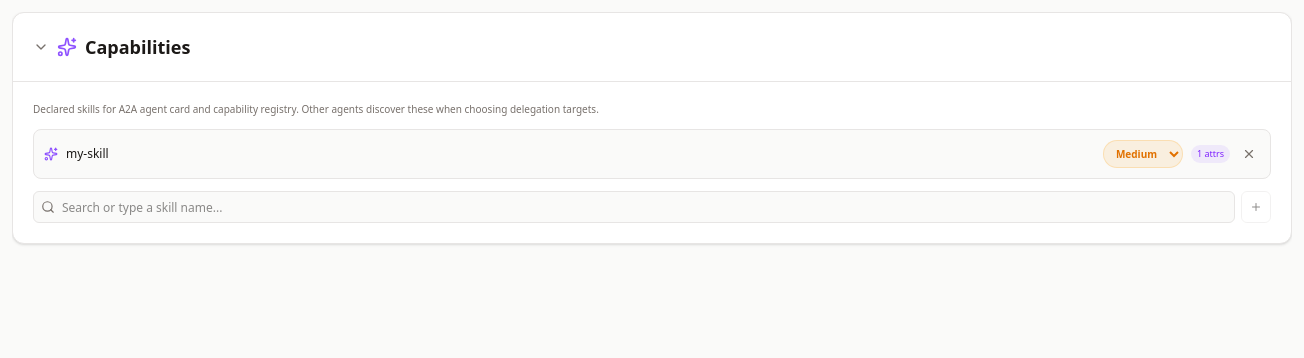
CapabilitiesSection — Editor › expands attributes editor when capability icon is clicked
Click the Sparkles icon button (toggle attributes)
Click the button titled "Toggle attributes".
click(51, 154)  # box x1=44 y1=147 x2=58 y2=161
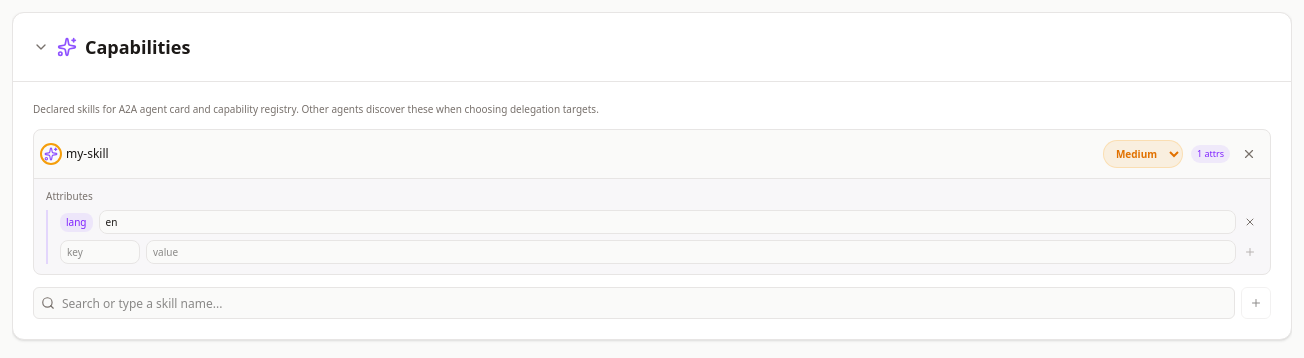
Expected: the text "Attributes" is shown, x1=46 y1=189 x2=93 y2=203
